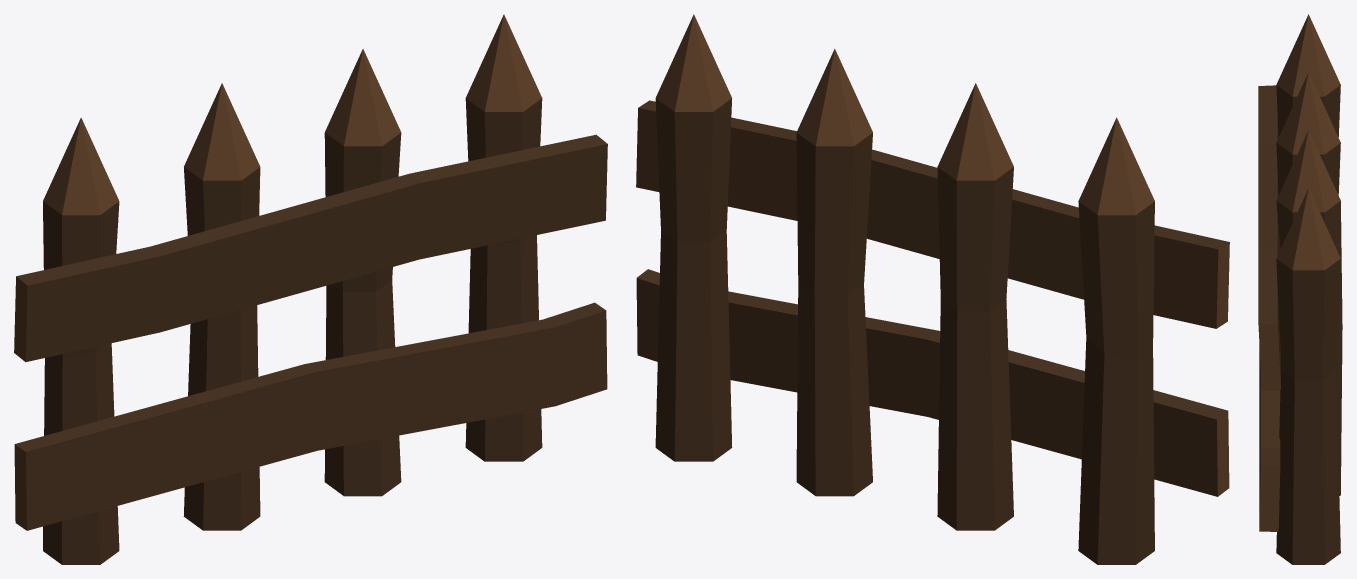
Rendered from Fence_9_Dark_Brown.fbx.
The picture shows the model from 3 angles, left to right: view 1: azimuth 30°, elevation 25°; view 2: azimuth 150°, elevation 25°; view 3: azimuth 270°, elevation 25°; orthographic projection. The views are drawn at different scales.
Parts seen in each view (by area): view 1: Fence_9_Dark_Brown; view 2: Fence_9_Dark_Brown; view 3: Fence_9_Dark_Brown.
Boxes of the visible parts, x1=… form: Fence_9_Dark_Brown: x1=14, y1=14, x2=607, y2=564; Fence_9_Dark_Brown: x1=636, y1=14, x2=1229, y2=564; Fence_9_Dark_Brown: x1=1258, y1=14, x2=1342, y2=564.
Size of the model in its own units: 140 by 100 by 20.85.
